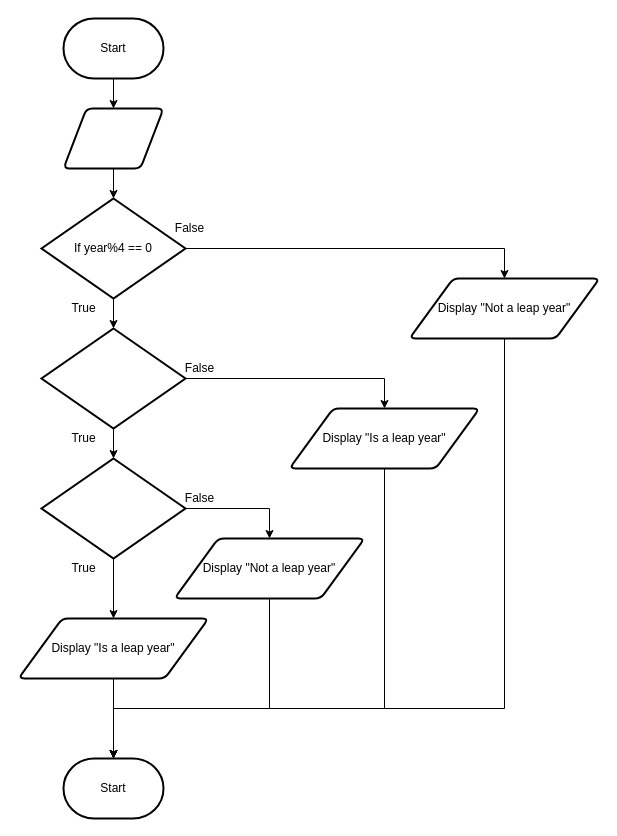
This 617x836 diagram has some shape labels left out. The centre of each missing label's shape, as x and y in pixels:
Get year: (x=113, y=138)
If year%100 == 0: (x=113, y=378)
If year%400 == 0: (x=113, y=508)
